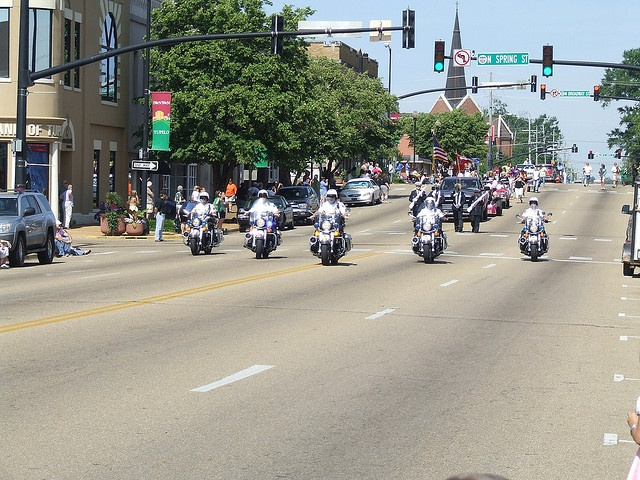non-vehicle: (181, 198, 223, 255), (408, 209, 449, 265), (309, 215, 353, 265), (242, 211, 283, 258), (515, 212, 552, 262)
